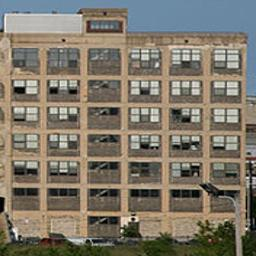building: (0, 1, 246, 241)
